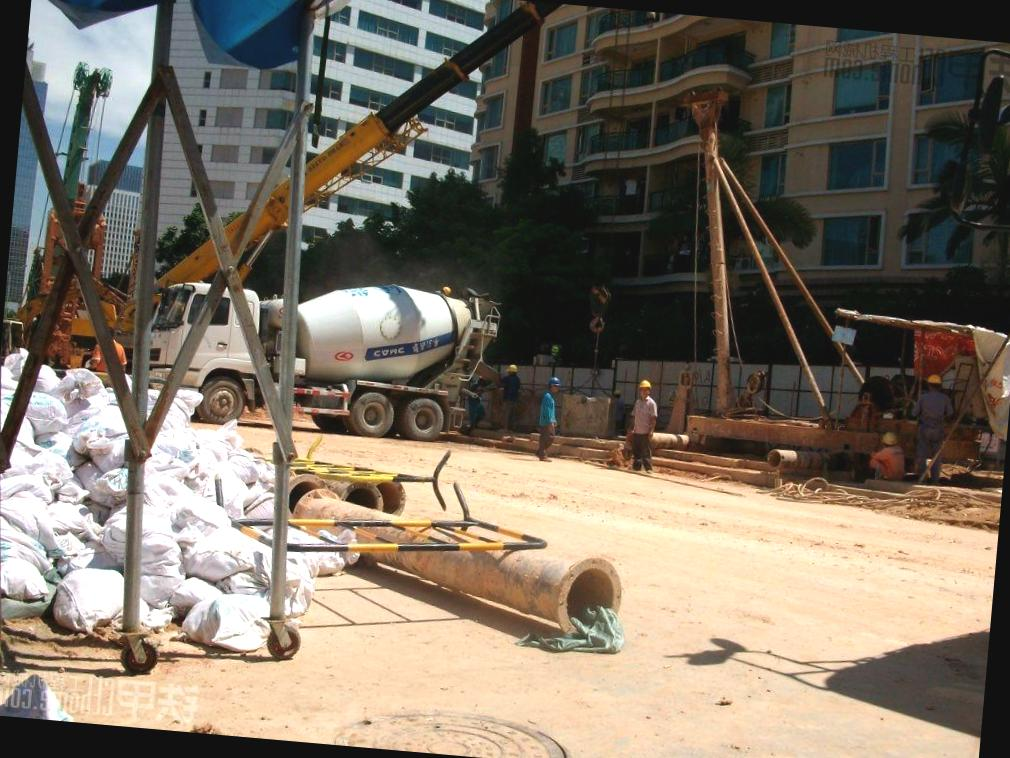no_vest: (628, 395, 659, 441), (536, 390, 560, 435)
person: (617, 370, 666, 478), (527, 368, 573, 468)
